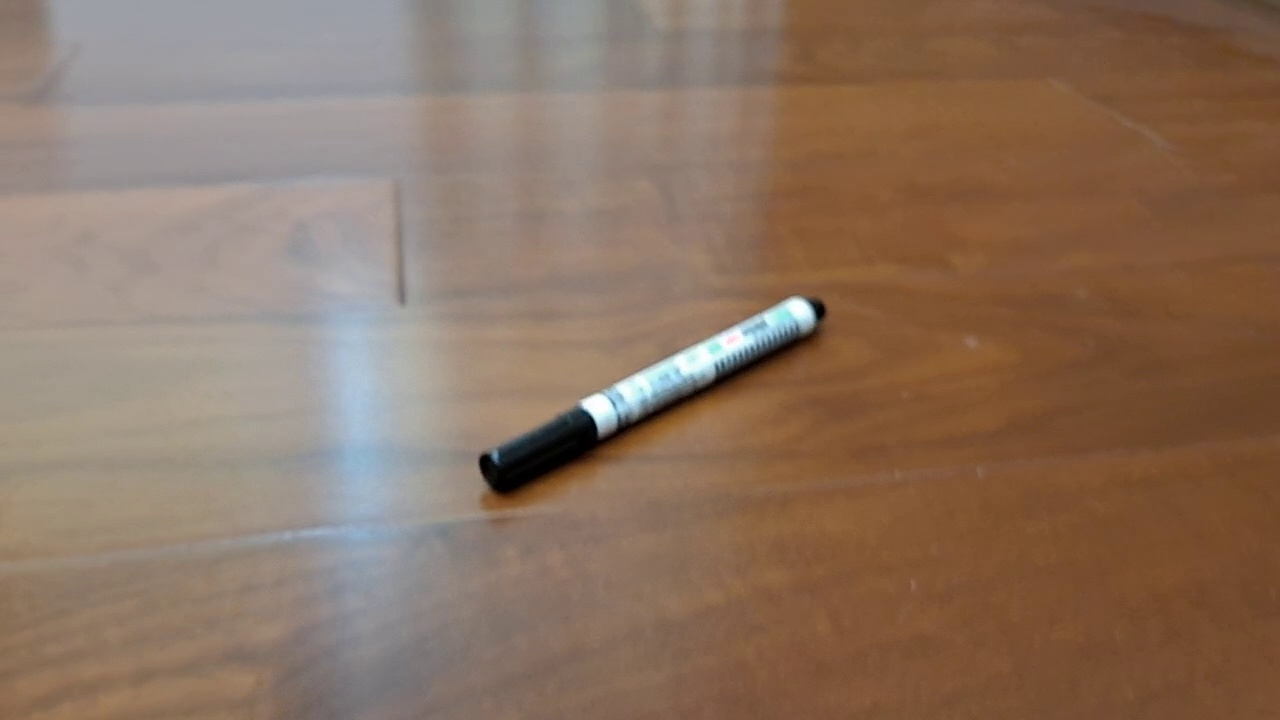pen: (478, 294, 826, 496)
